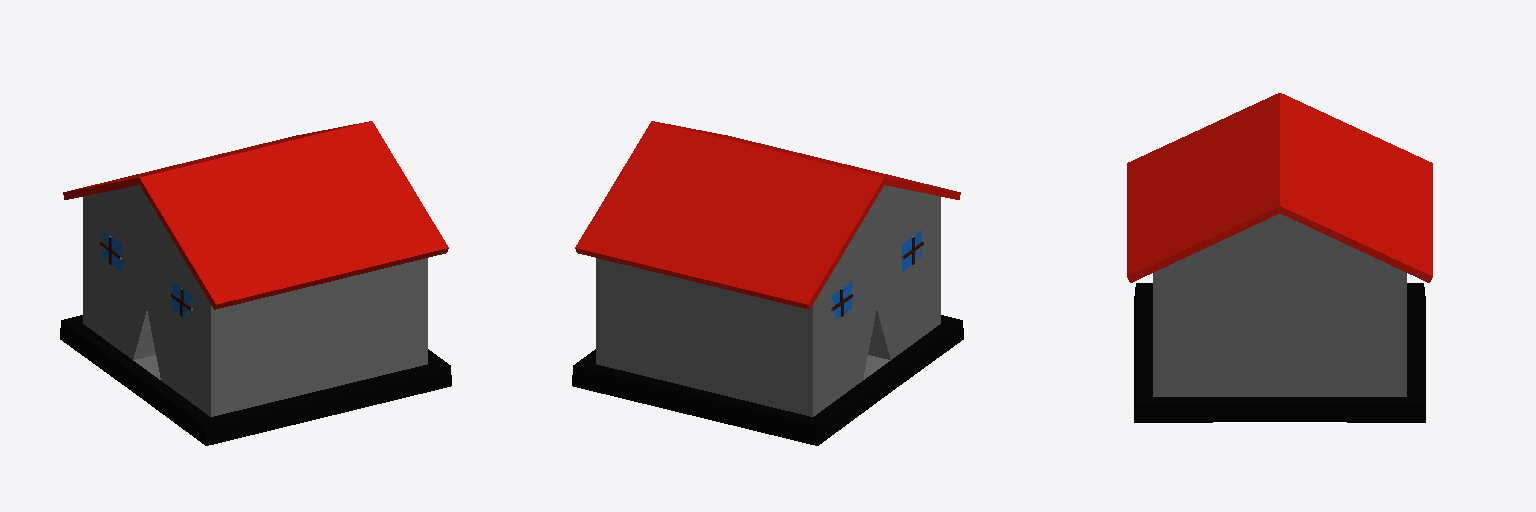
File: house.obj
The picture shows the model from 3 angles: view 1: azimuth 30°, elevation 25°; view 2: azimuth 150°, elevation 25°; view 3: azimuth 270°, elevation 25°; orthographic projection.
Visible parts, largest first — view 1: Cube; view 2: Cube; view 3: Cube.
Part boxes in pixels (x1,y1,x2,y2): Cube: (60, 121, 451, 445); Cube: (572, 121, 963, 445); Cube: (1127, 93, 1432, 422).
Size of the model in its own units: 9.07 by 7.52 by 9.78.